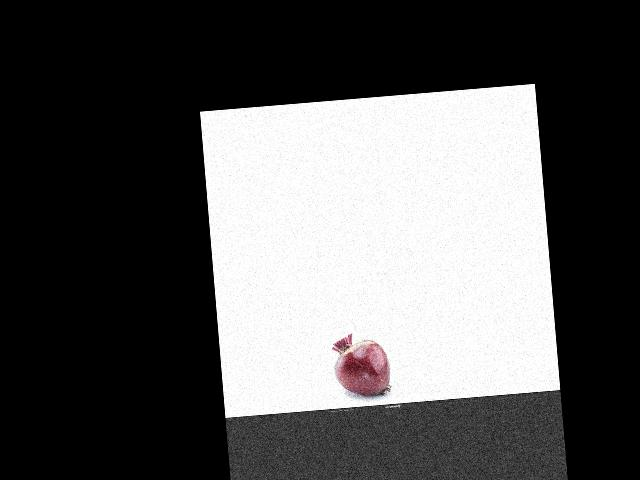beet: (330, 331, 391, 397)
